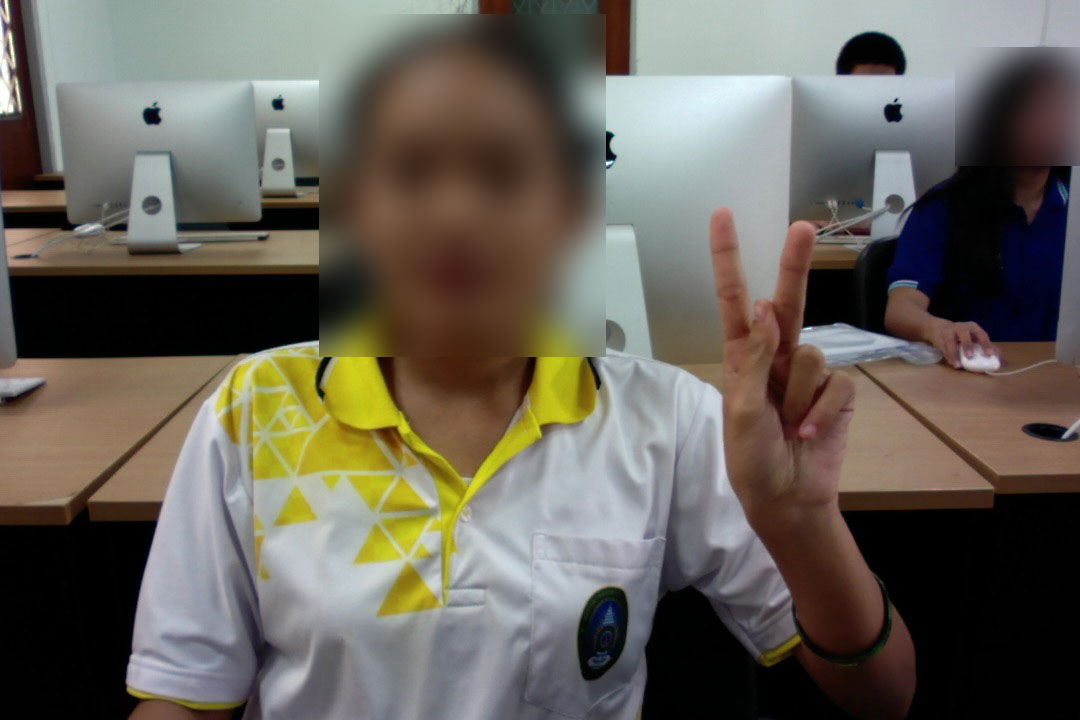ko: (692, 199, 863, 554)
